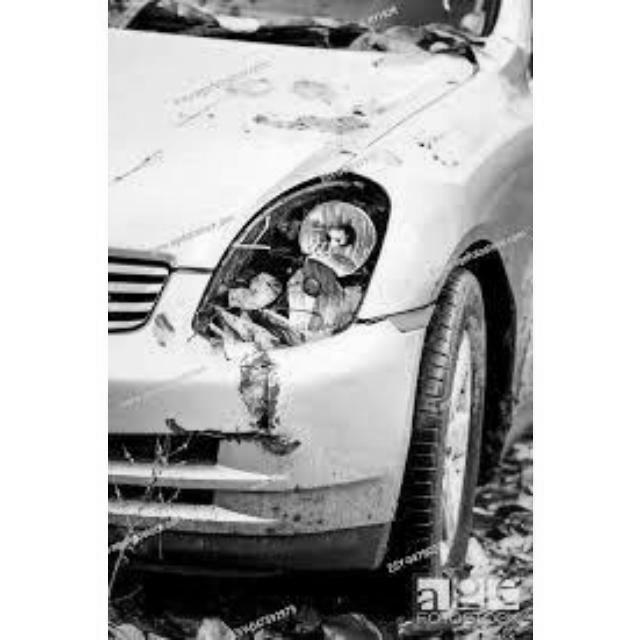front-bumper-dent: (108, 321, 457, 579)
